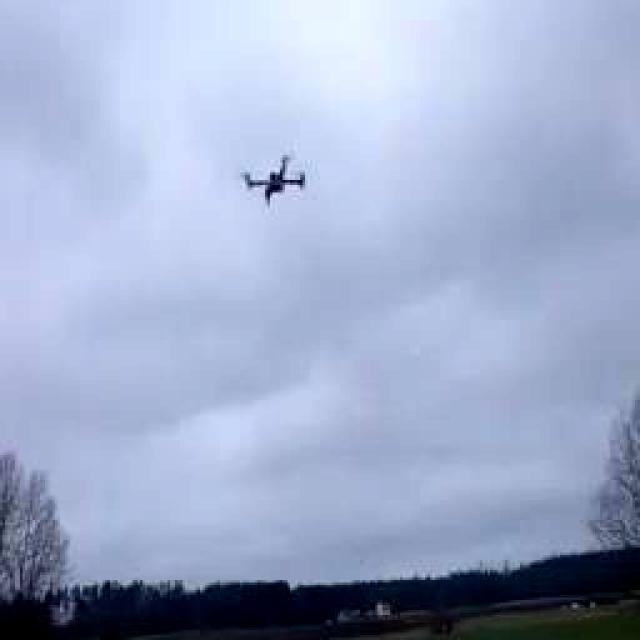bird: (221, 142, 321, 215)
